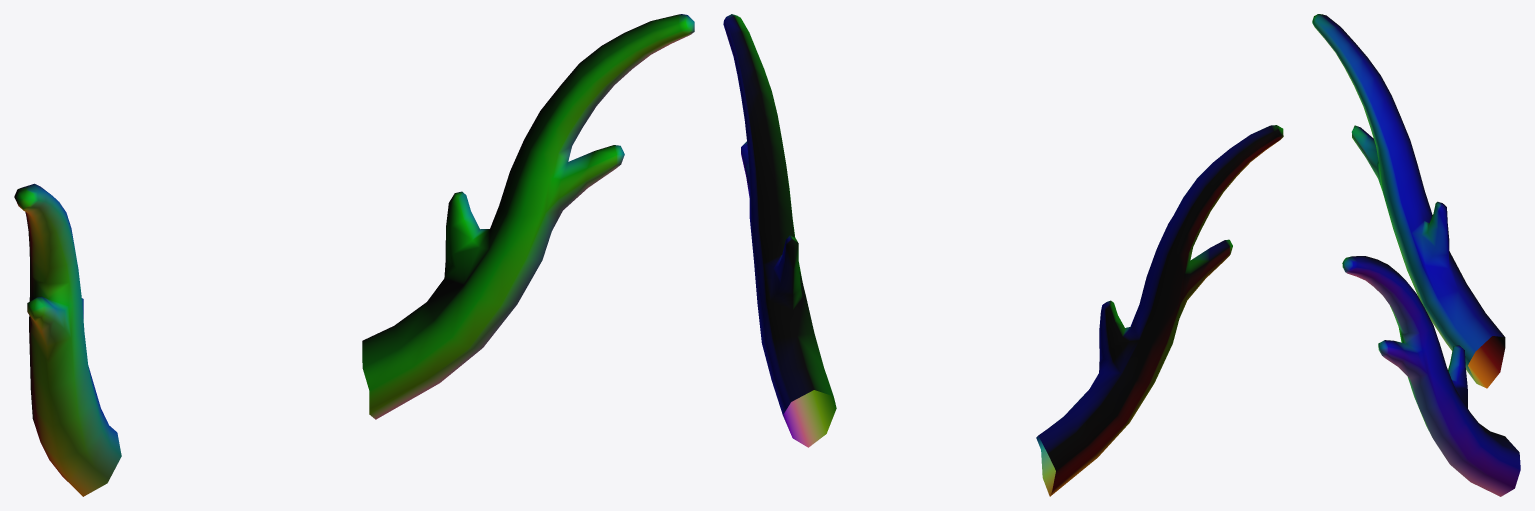
Rendered from Horn.fbx.
3 renders of one model, left to right at view 1: azimuth 30°, elevation 25°; view 2: azimuth 150°, elevation 25°; view 3: azimuth 270°, elevation 25°, orthographic. The views are drawn at different scales.
Parts seen in each view (by area): view 1: Horn; view 2: Horn; view 3: Horn.
Boxes of the visible parts, x1,y1,x2,y2 form: Horn: (14, 14, 694, 496); Horn: (723, 14, 1283, 496); Horn: (1312, 14, 1520, 496).
Bounding box in the file's own units: 22.07 × 13.3 × 7.96.
